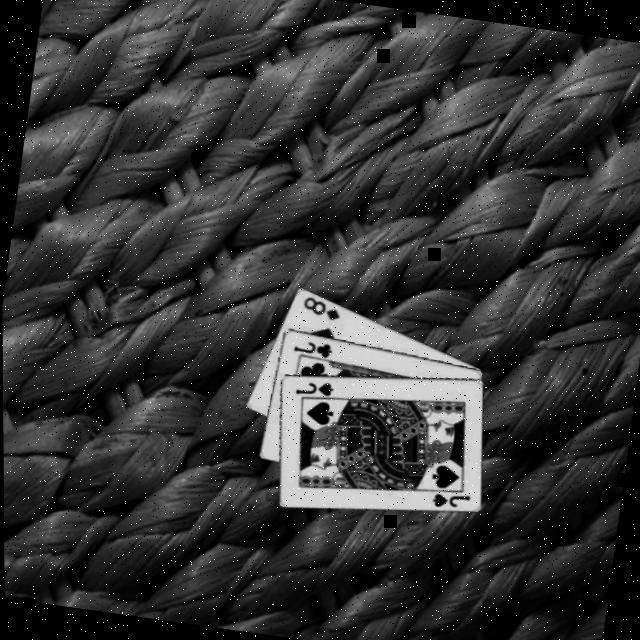8D: (299, 291, 345, 322)
JC: (290, 334, 335, 359)
JS: (429, 486, 473, 512), (293, 373, 336, 399)
